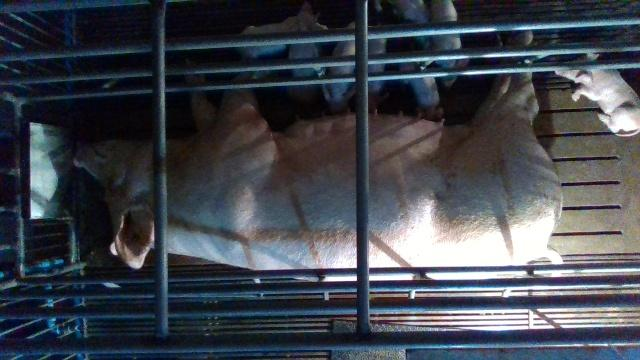piglet: (556, 53, 640, 138), (281, 1, 327, 102), (236, 12, 327, 62), (320, 18, 361, 118), (375, 0, 434, 68), (430, 0, 476, 85), (398, 62, 446, 122), (368, 24, 390, 113)
sow-sleep-lactate: (72, 35, 562, 281)
